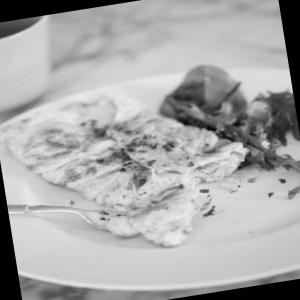omelet: (0, 49, 268, 266)
